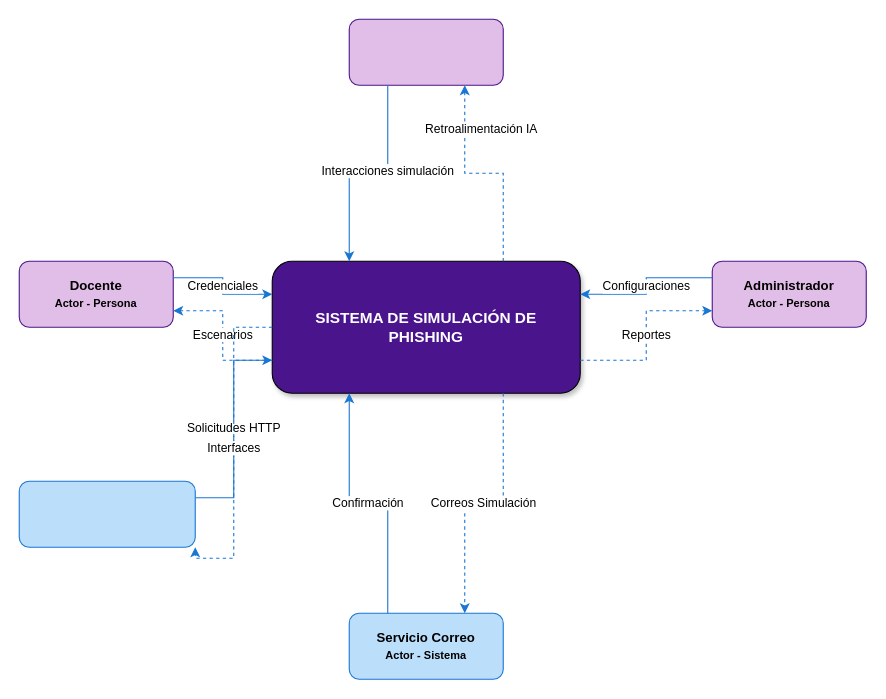
This 886x699 diagram has some shape labels left out. Here are the shapes that lost their labels. From the top down, the centre of each, then its label:
At (x=425, y=51): "Estudiante Actor - Persona".
At (x=106, y=513): "Sistema Web Actor - Sistema".
